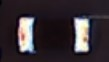COMP: (11, 11, 96, 57)
STAN: (85, 12, 109, 21)
